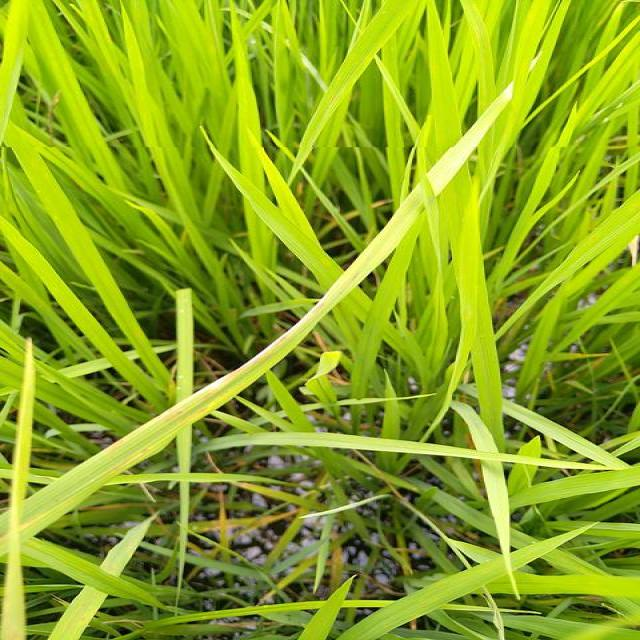Leaf Streak: (124, 86, 515, 441)
